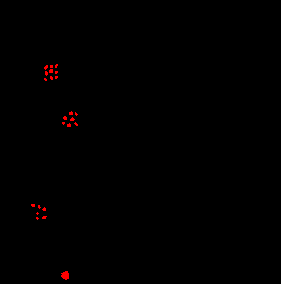Target: (61, 271, 69, 280), (44, 65, 48, 70), (70, 117, 75, 121), (49, 69, 53, 73), (69, 111, 73, 115), (63, 116, 67, 120), (74, 122, 78, 126), (67, 123, 71, 127), (42, 207, 46, 211), (45, 71, 48, 76), (42, 216, 47, 219), (55, 64, 58, 68), (50, 76, 53, 80), (75, 112, 78, 116), (31, 204, 35, 207), (38, 205, 41, 209), (50, 65, 53, 68), (55, 71, 58, 74), (55, 76, 58, 79), (44, 78, 47, 81), (62, 122, 65, 125), (36, 212, 39, 215), (36, 217, 39, 220)
